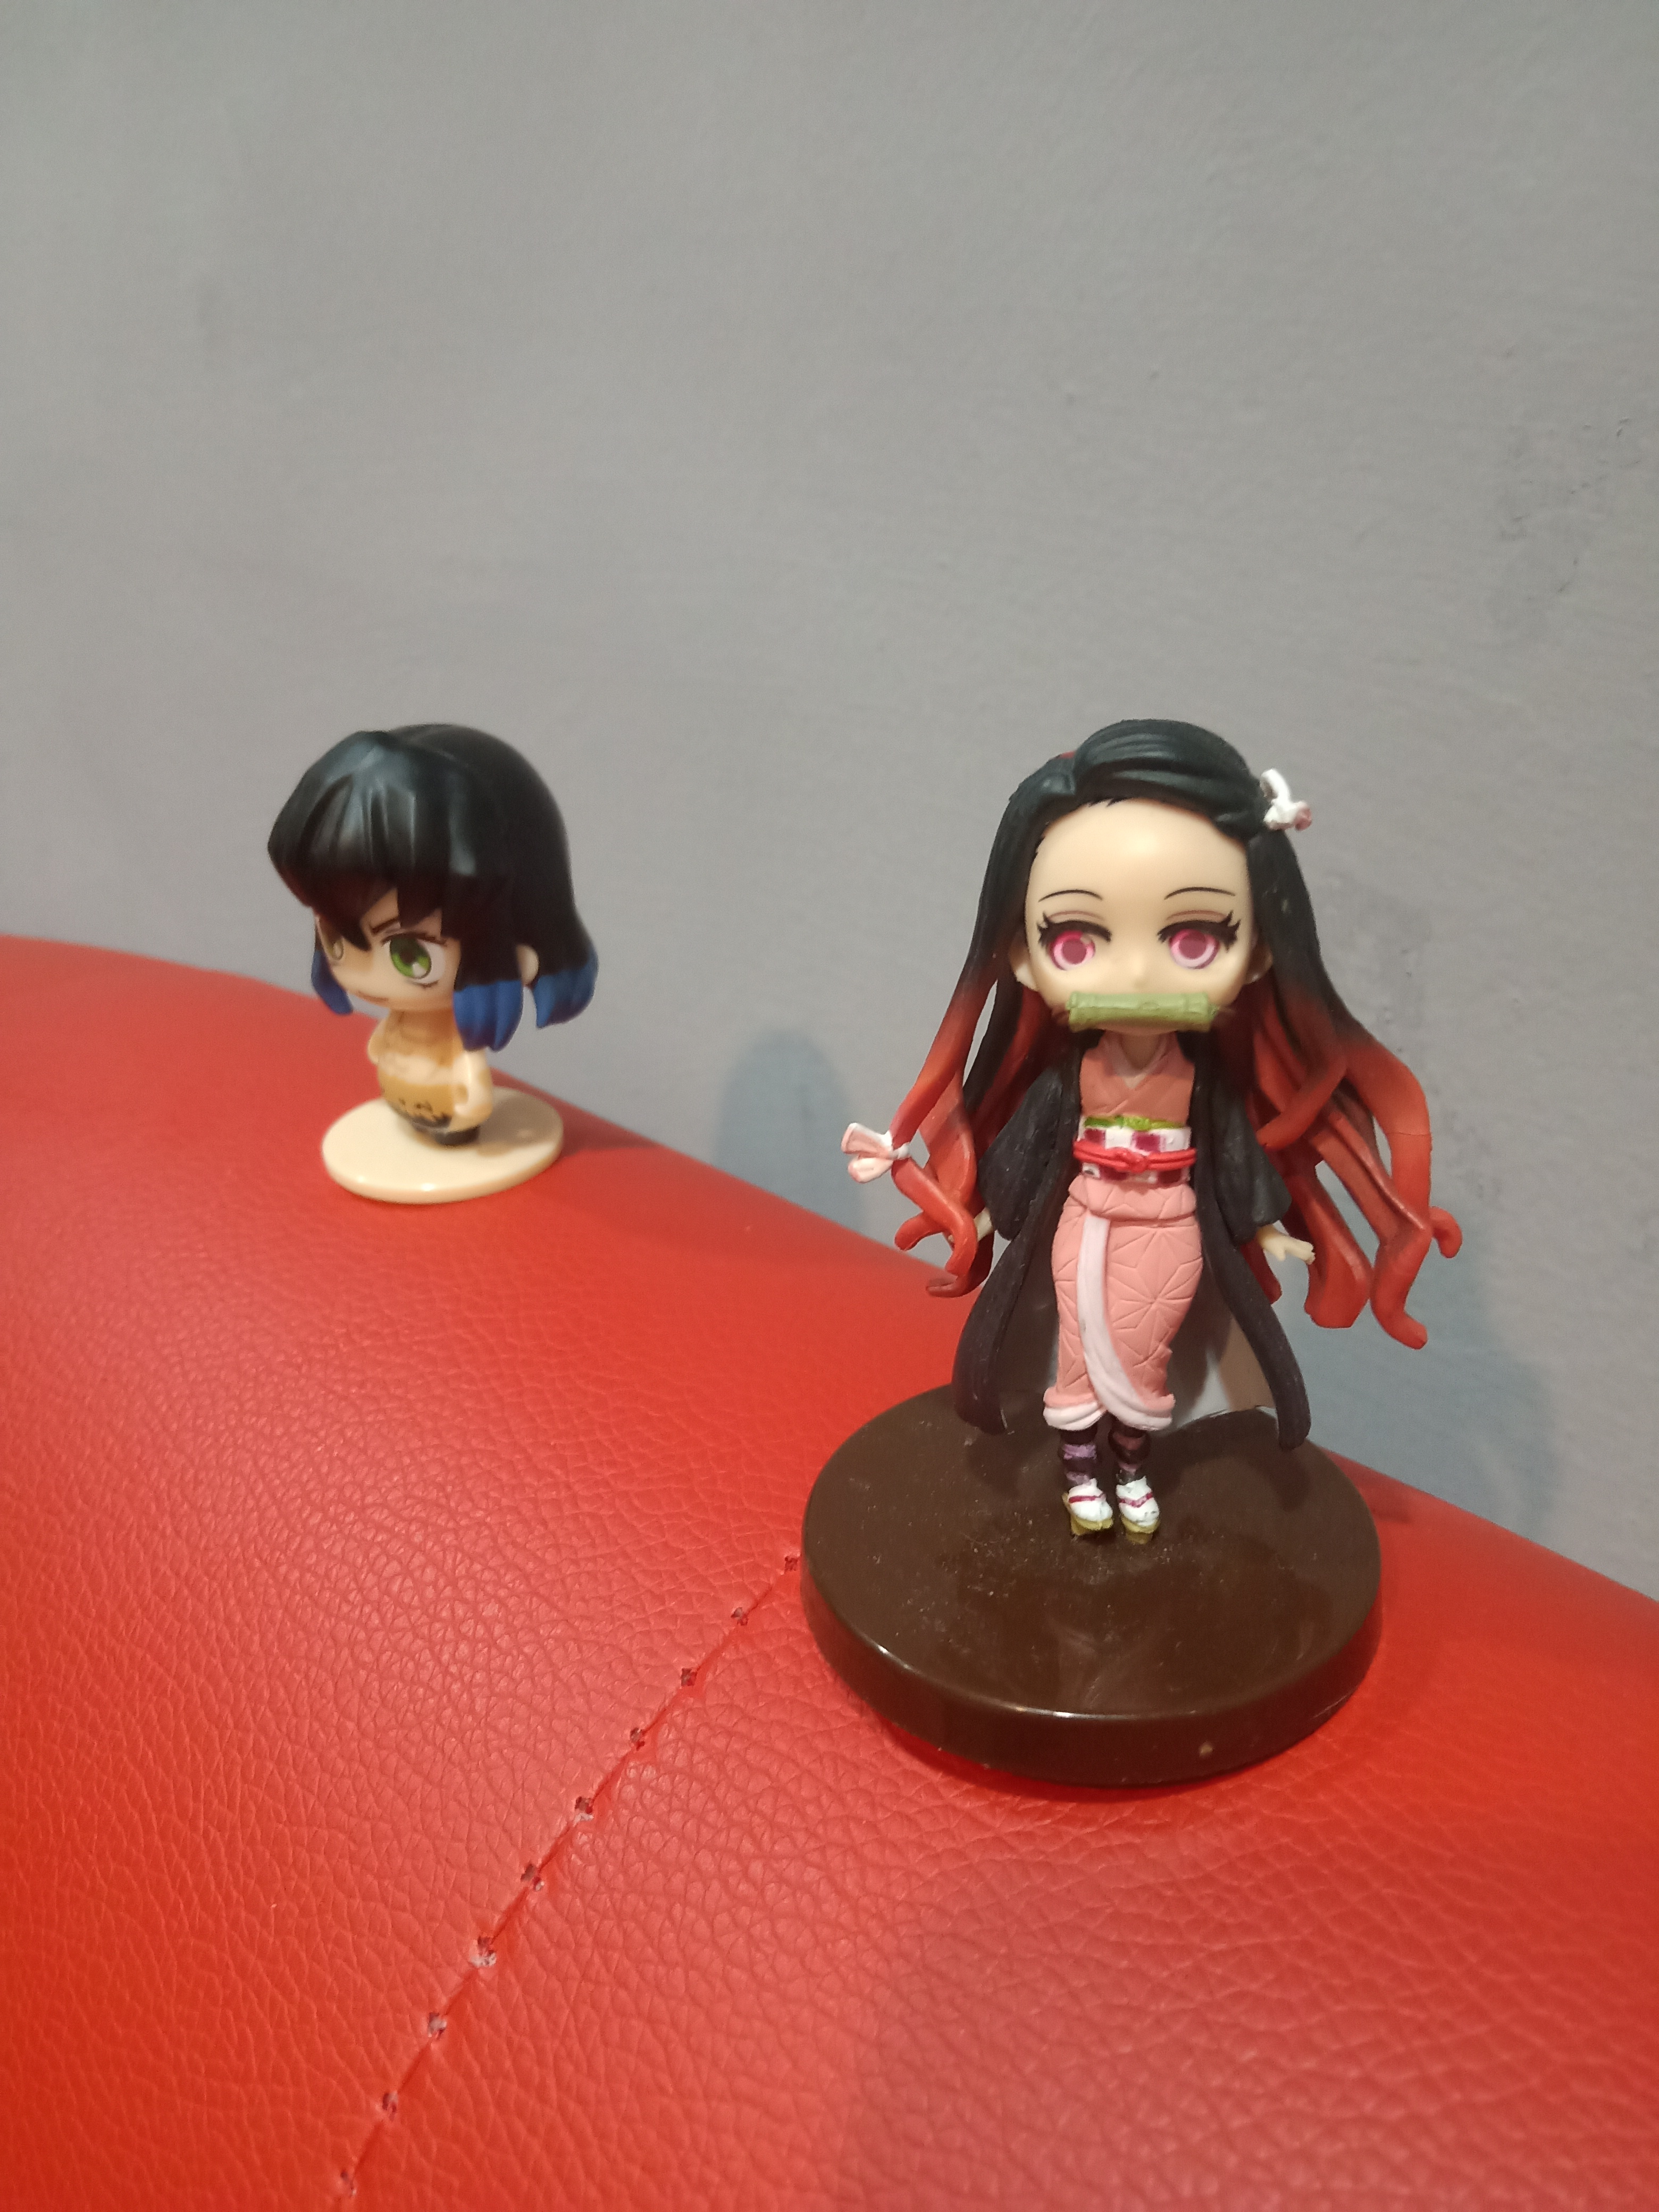Inosuke: (249, 707, 620, 1235)
Nezuko: (775, 704, 1478, 1806)
